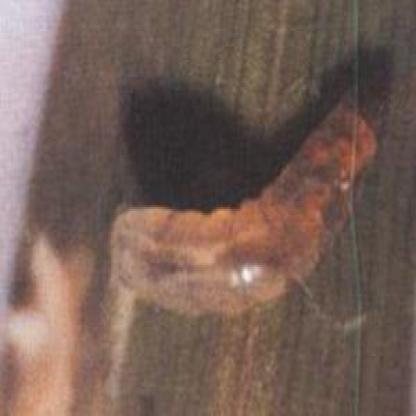whorl-maggot: (112, 97, 378, 322)
